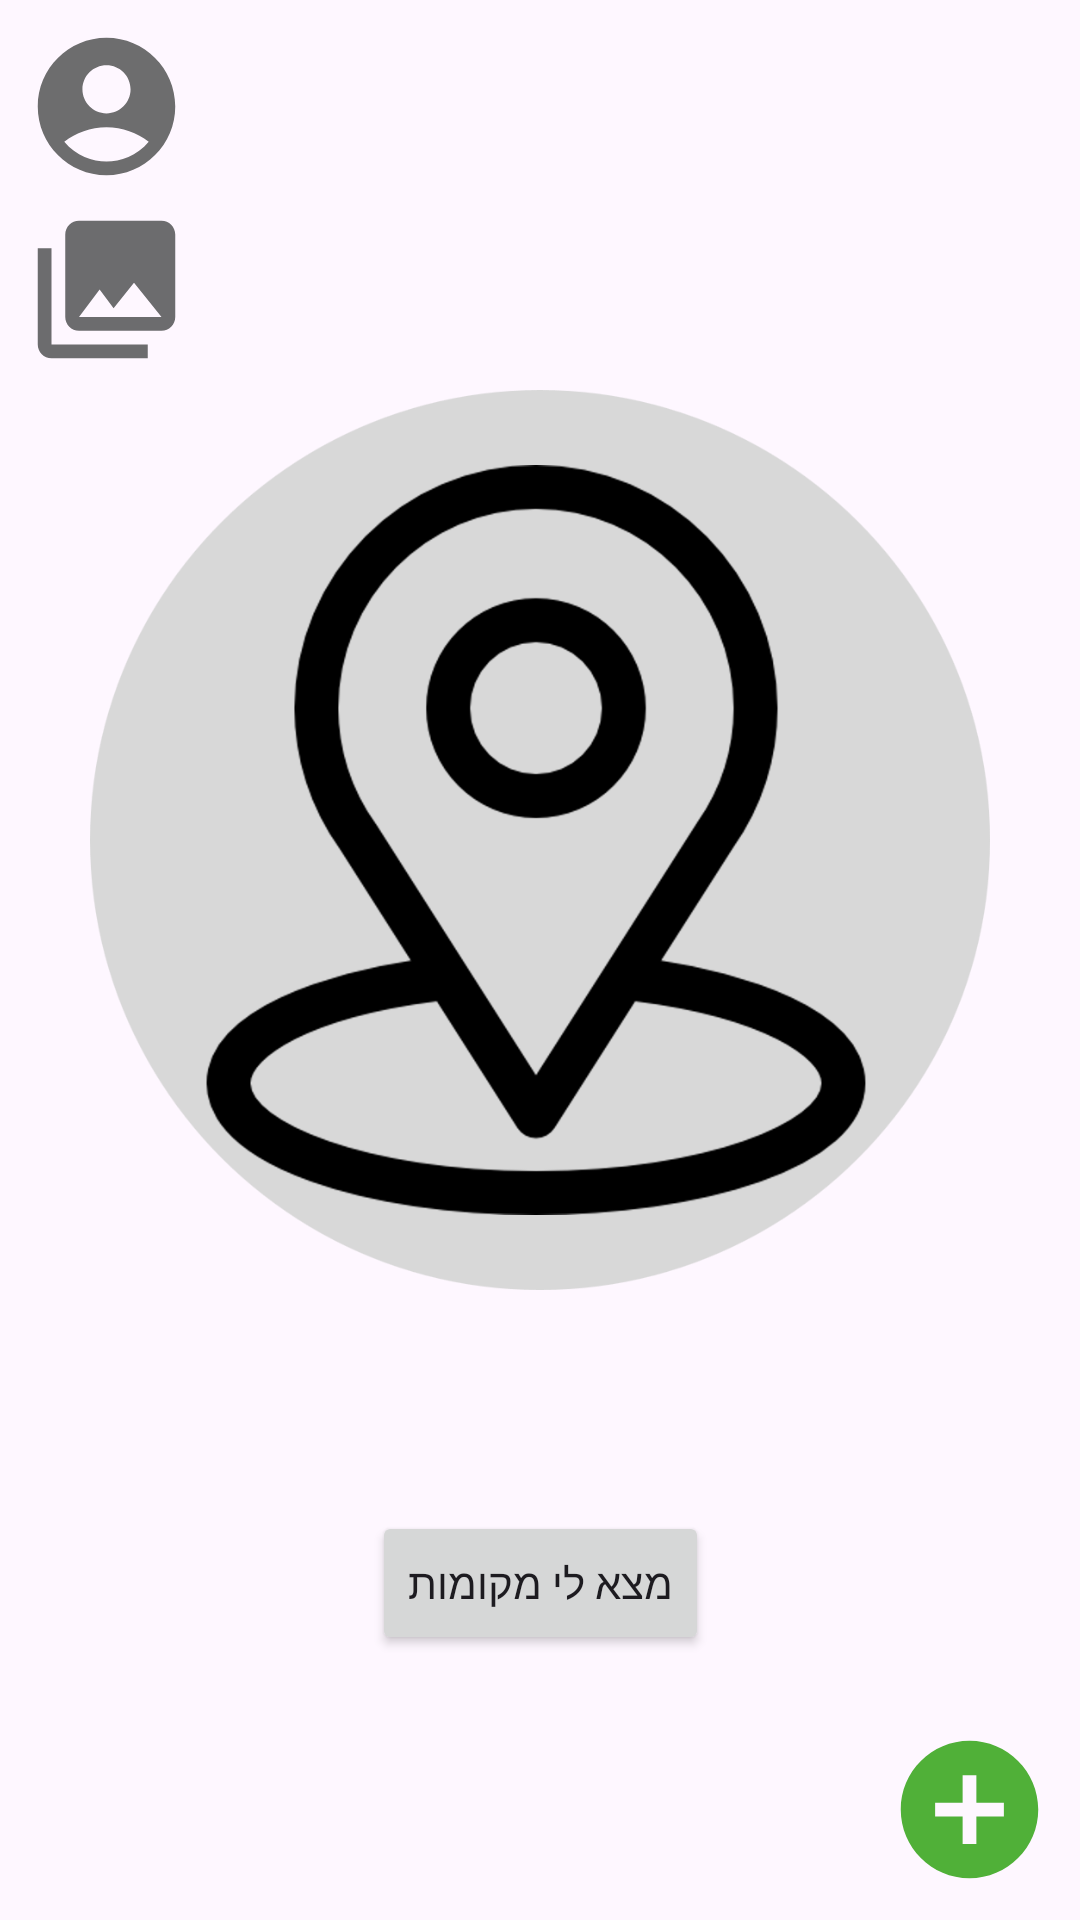

Named icons in this screenshot (1080x1920) and their bounding boxes, (x1, y1, x2, y2):
account circle: (37, 37, 176, 176)
add circle: (900, 1740, 1039, 1879)
collections: (37, 220, 176, 359)
